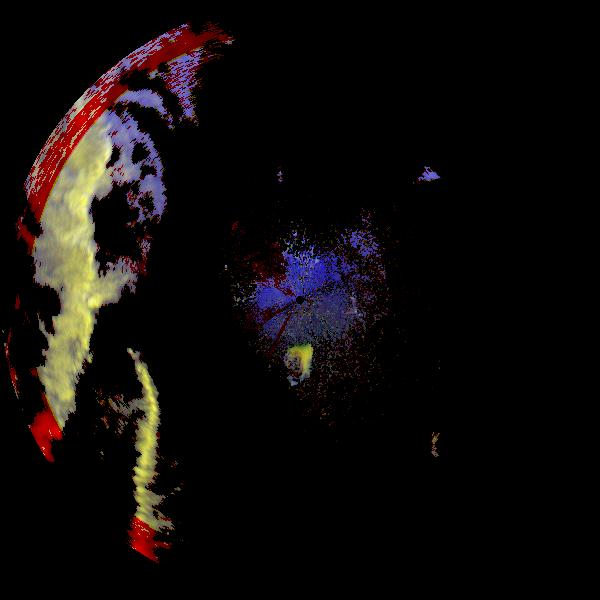roost: (386, 158, 476, 248), (425, 418, 482, 475), (273, 339, 330, 396)
